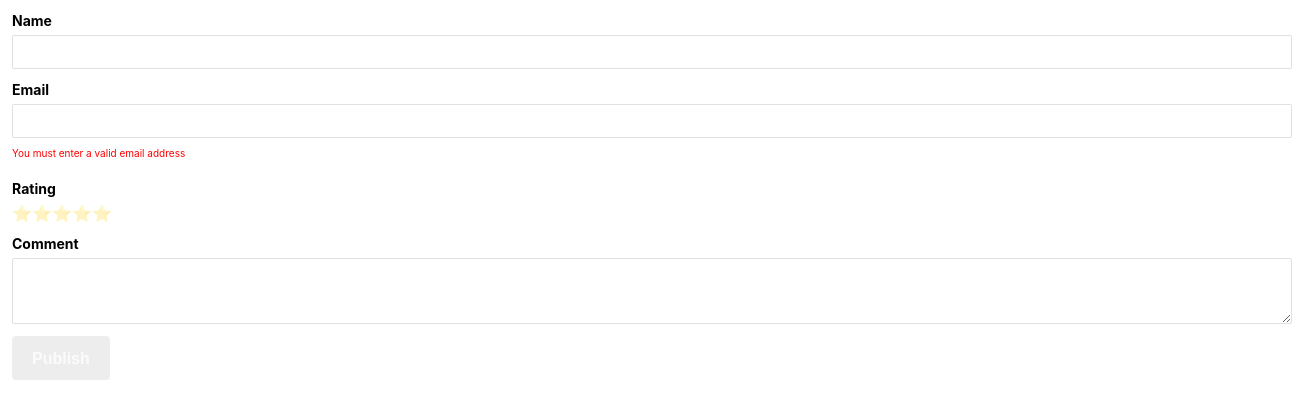
Scenario: <FeedbackForm> › Field behaviour › Field: email › should hide any error message on focus
The image size is (1304, 397).
Step 1. Focus the field with test id "input-email" → point(652, 121), box [12,104,1292,138]
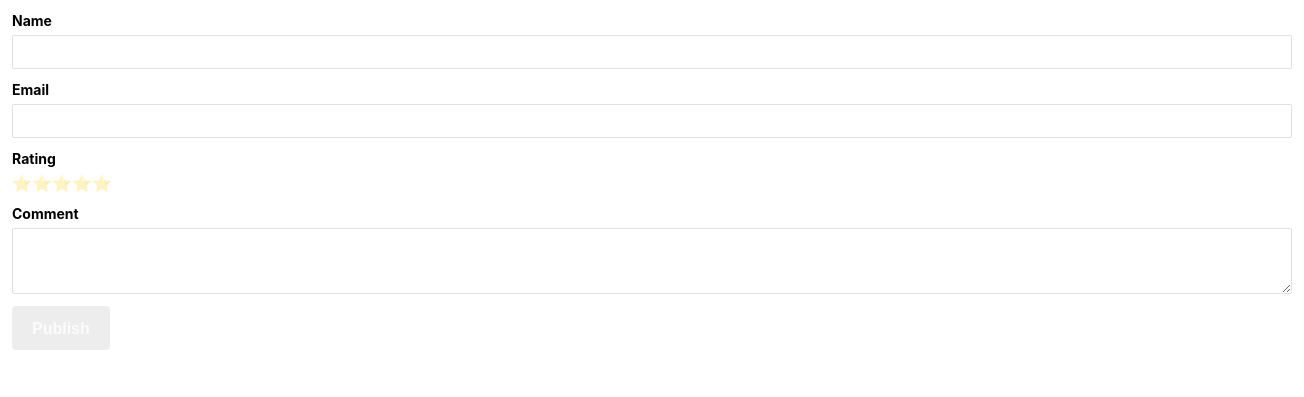
Now the text "You must enter a valid email" is gone
